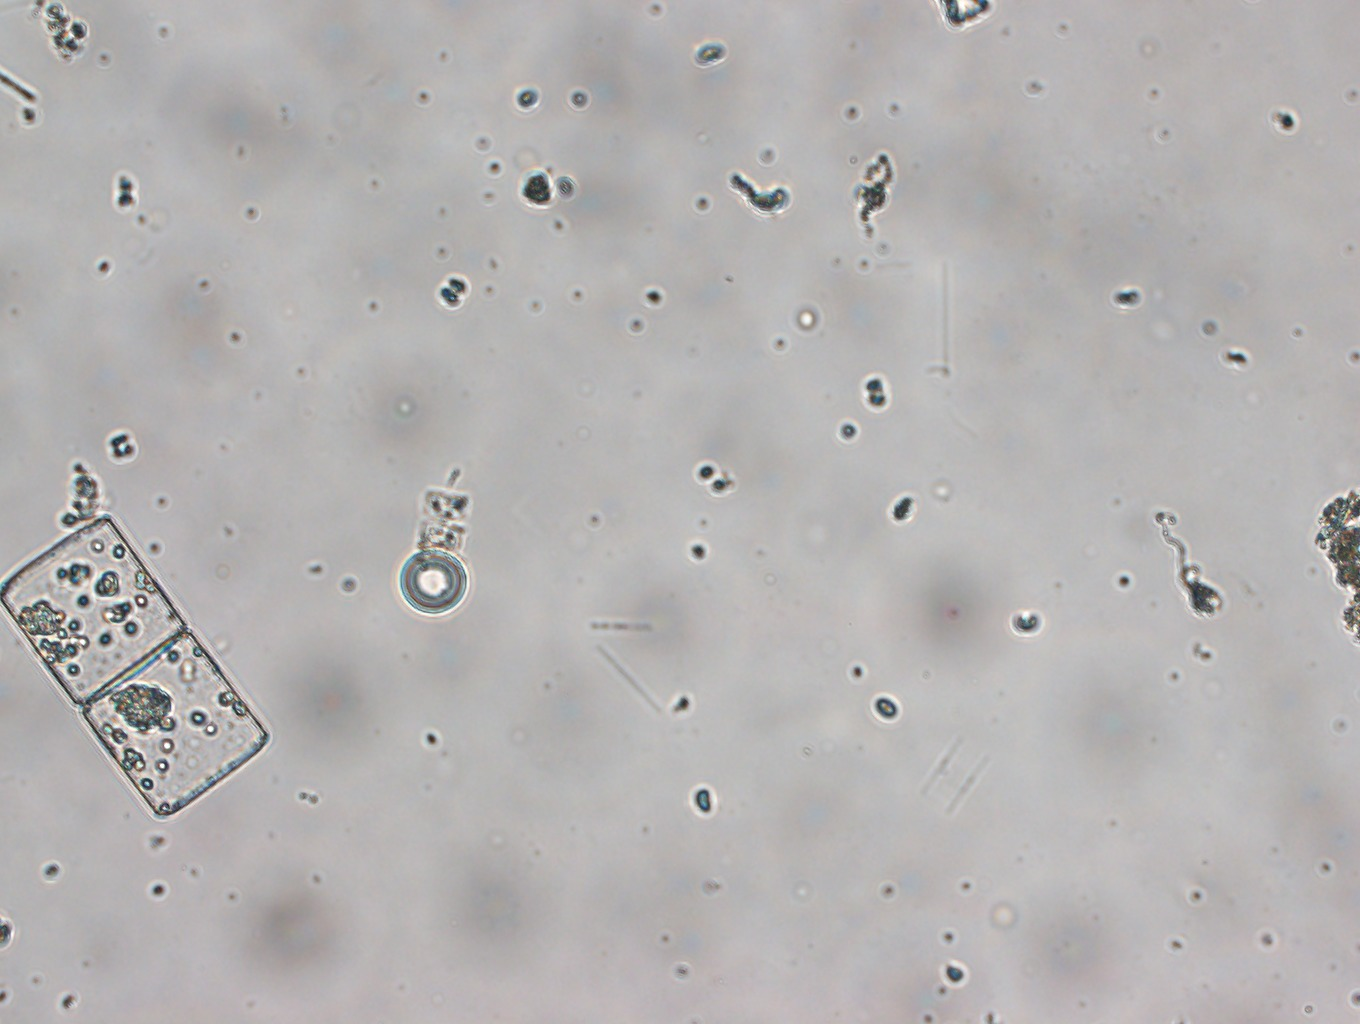guinardia flaccida: (1, 512, 269, 817)
